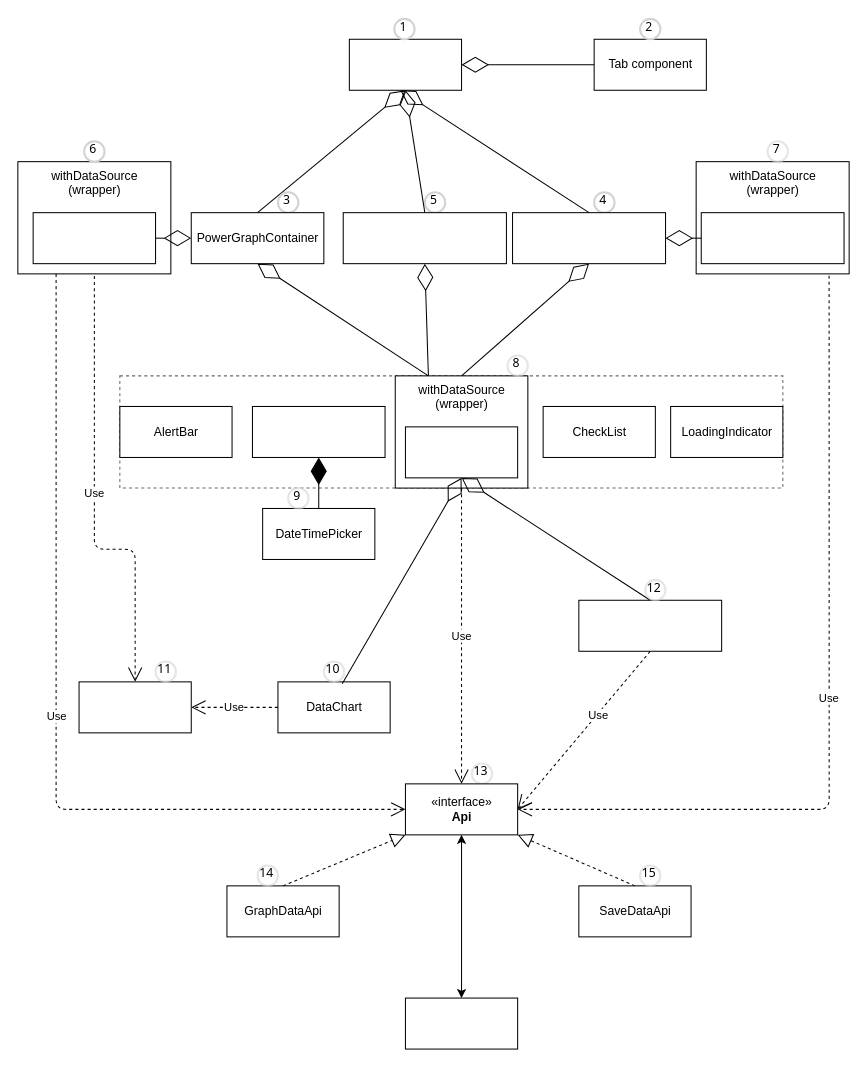
Image size: 867x1067. Some labels were removed from this diagram. Each missing label, with the centre of its shape:
"App" belongs at point 405,64.
"Average Temperature" belongs at point 772,238.
"Backend" belongs at point 461,1023.
"CombineGraphContainer" belongs at point 424,238.
"GraphItem" belongs at point 461,452.
"MultiDateTimePicker" belongs at point 318,431.
"Percentage Dialog" belongs at point 94,238.
"SaveDataContainer" belongs at point 650,625.
"TooltipContent" belongs at point 134,707.
"WeatherGraphContainer" belongs at point 589,238.
